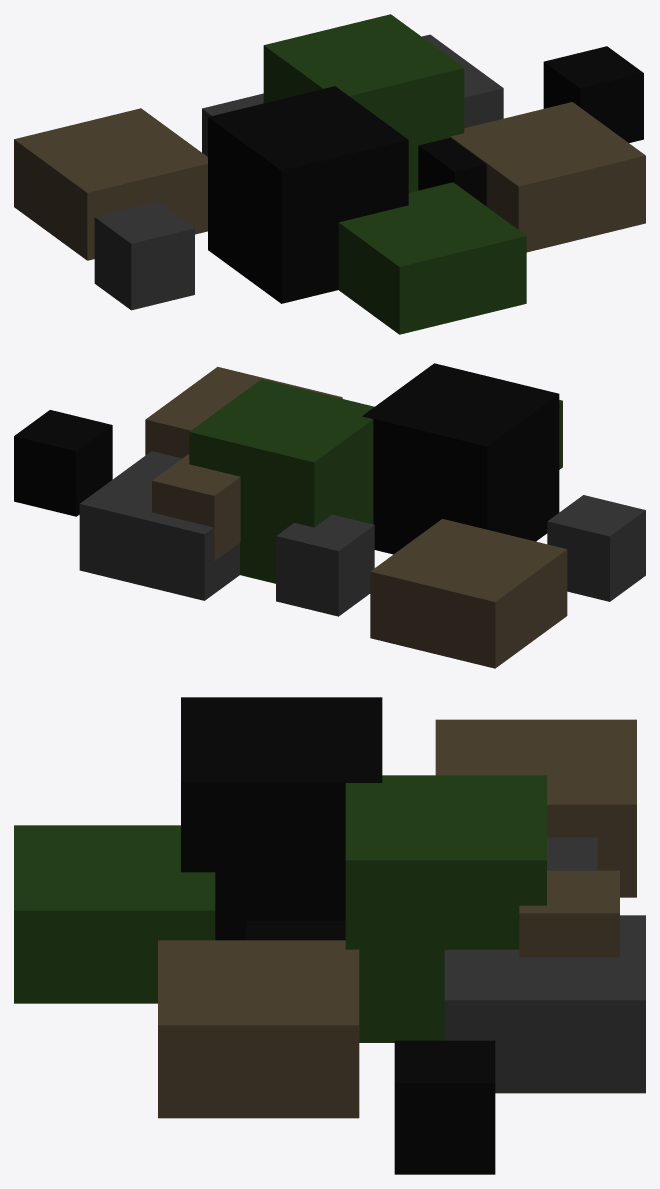
File: trash.fbx
3 renders of one model, top to bottom at view 1: azimuth 30°, elevation 25°; view 2: azimuth 150°, elevation 25°; view 3: azimuth 270°, elevation 25°, orthographic. The views are drawn at different scales.
Parts seen in each view (by area): view 1: Cube.005; view 2: Cube.005; view 3: Cube.005.
Boxes of the visible parts, x1,y1,x2,y2 form: Cube.005: (14,14,645,334); Cube.005: (14,363,645,668); Cube.005: (14,697,645,1174).
Bounding box in the file's own units: 303 × 69.15 × 216.
